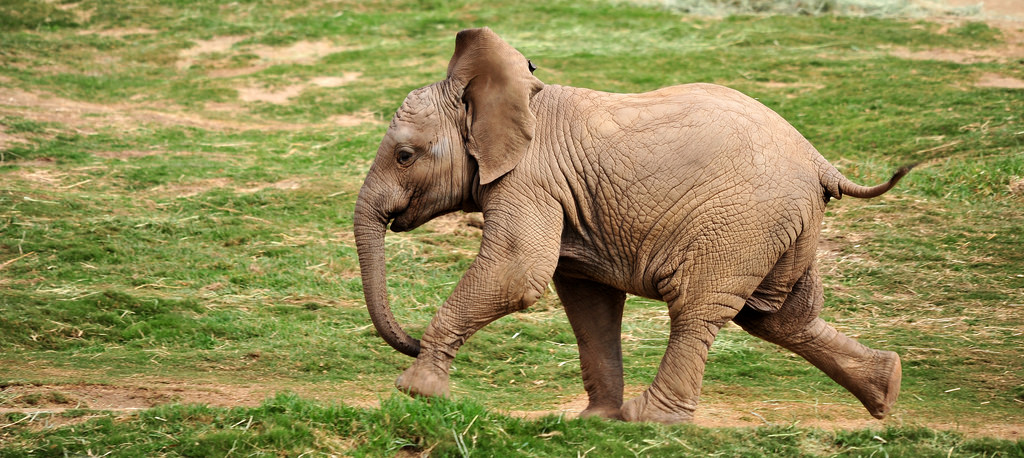elephant: (348, 19, 918, 424)
